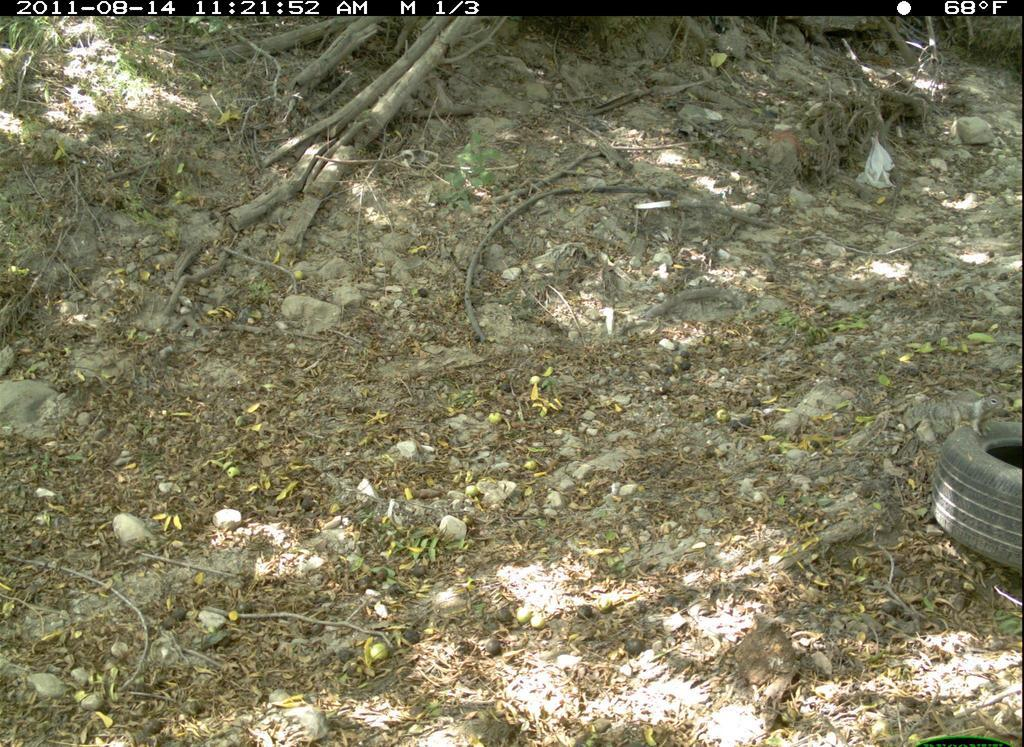squirrel: (907, 387, 1014, 447)
